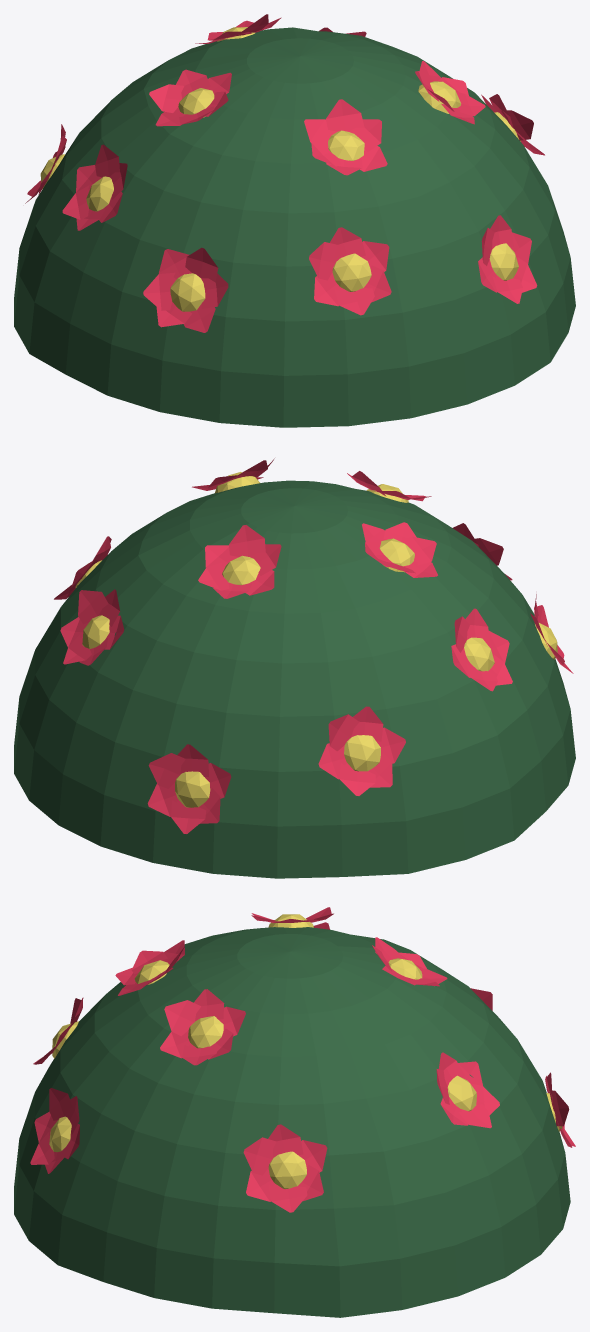
Rendered from arbusto1.glb.
The picture shows the model from 3 angles, top to bottom: view 1: azimuth 30°, elevation 25°; view 2: azimuth 150°, elevation 25°; view 3: azimuth 270°, elevation 25°; orthographic projection.
Visible parts, largest first — view 1: Esfera, Esfera geodésica.002, Esfera geodésica.010, Plano.070, Esfera geodésica.011, Plano.065, Esfera geodésica.008, Plano.016, Plano.017, Esfera geodésica.001, Plano.015, Plano.064 (+16 smaller); view 2: Esfera, Esfera geodésica.007, Esfera geodésica.004, Plano.058, Plano.028, Esfera geodésica.009, Esfera geodésica.006, Plano.029, Plano.047, Plano.034, Plano.045, Plano.046 (+13 smaller); view 3: Esfera, Esfera geodésica.003, Esfera geodésica.001, Plano.010, Plano.022, Esfera geodésica.005, Plano.023, Plano.021, Plano.009, Plano.018, Esfera geodésica.008, Plano.020 (+3 smaller).
Boxes of the visible parts, x1,y1,x2,y2 form: Esfera: (14,27,575,427); Esfera geodésica.002: (332,253,371,291); Esfera geodésica.010: (170,273,205,311); Plano.070: (326,99,364,131); Esfera geodésica.011: (328,130,364,160); Plano.065: (143,272,176,310); Esfera geodésica.008: (489,243,518,280); Plano.016: (309,242,337,280); Plano.017: (335,288,374,315); Esfera geodésica.001: (418,81,461,113); Plano.015: (330,227,365,262); Plano.064: (185,247,218,282); Esfera: (14,480,575,878); Esfera geodésica.007: (344,735,380,771); Esfera geodésica.004: (175,771,210,807); Plano.058: (229,525,265,556); Plano.028: (148,753,185,788); Esfera geodésica.009: (222,555,260,585); Esfera geodésica.006: (464,637,494,671); Plano.029: (171,800,206,833); Plano.047: (339,762,375,795); Plano.034: (78,590,108,624); Plano.045: (351,706,383,741); Plano.046: (328,714,359,751); Esfera: (14,927,570,1317); Esfera geodésica.003: (268,1151,306,1188); Esfera geodésica.001: (188,1016,223,1048); Plano.010: (164,1000,201,1036); Plano.022: (243,1137,276,1175); Esfera geodésica.005: (447,1075,476,1111); Plano.023: (269,1184,307,1212); Plano.021: (268,1124,303,1157); Plano.009: (194,989,224,1021); Plano.018: (246,1168,274,1201); Esfera geodésica.008: (49,1116,71,1152); Plano.020: (299,1140,327,1172).
Size of the model in its own units: 1.96 by 1.02 by 1.98.
